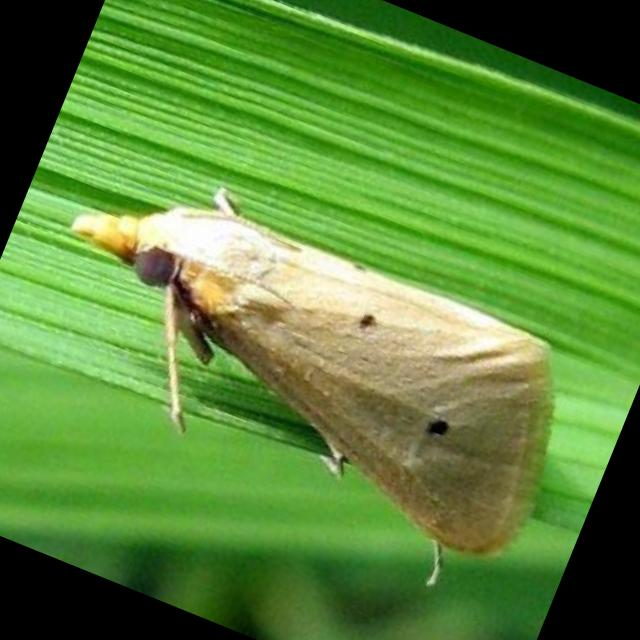stem-borer: (4, 147, 594, 584)
